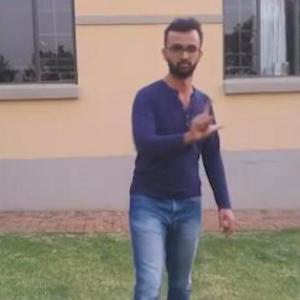land_hand: (181, 91, 232, 144)
